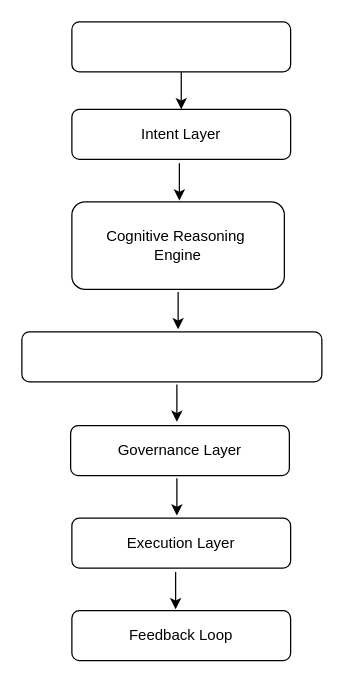
Some shapes in this 344 by 683 pixel diagram are drawn without their labels. Here are the shapes that lost their labels. From the top down, the box of each, then its label:
(71, 21, 291, 72): Business Intent
(21, 331, 322, 382): Semantic Context / Knowledge Graph
